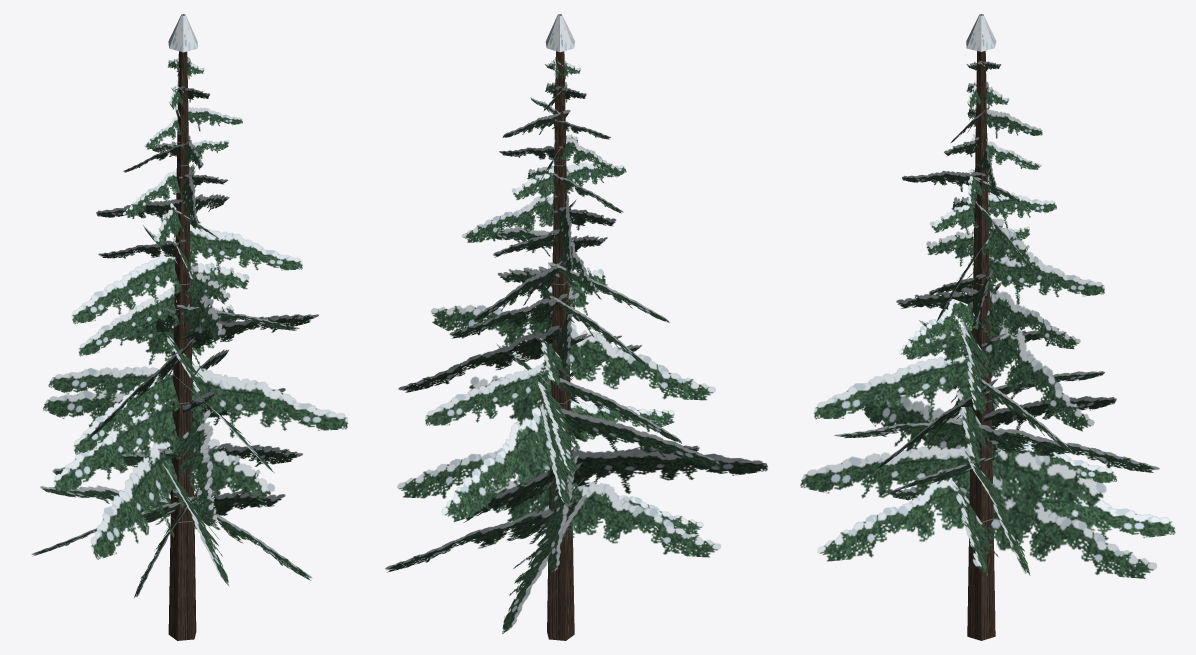
Rendered from MediumFir.glb.
The picture shows the model from 3 angles, left to right: view 1: azimuth 30°, elevation 25°; view 2: azimuth 150°, elevation 25°; view 3: azimuth 270°, elevation 25°; orthographic projection.
Parts seen in each view (by area): view 1: MediumFir; view 2: MediumFir; view 3: MediumFir.
Boxes of the visible parts, x1,y1,x2,y2 form: MediumFir: (31, 14, 348, 640); MediumFir: (385, 14, 767, 640); MediumFir: (800, 14, 1175, 640).
Bounding box in the file's own units: 3.13 × 5.78 × 3.24.
Materials: 1 (1 with a texture image).
